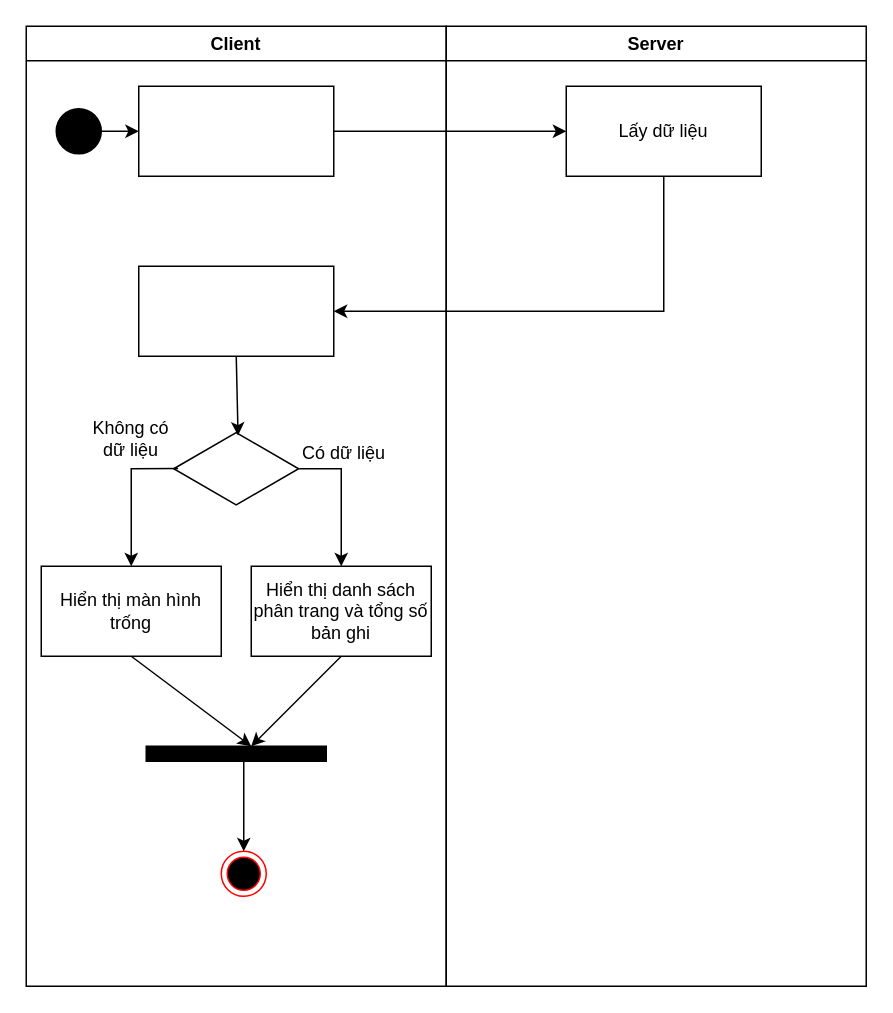
This 893x1013 diagram has some shape labels left out. Here are the shapes that lost their labels. From the top down, the centre of each, then its label:
[235,130]: Truy cập màn hình danh sách
[235,310]: Nhận dữ liệu trả về
